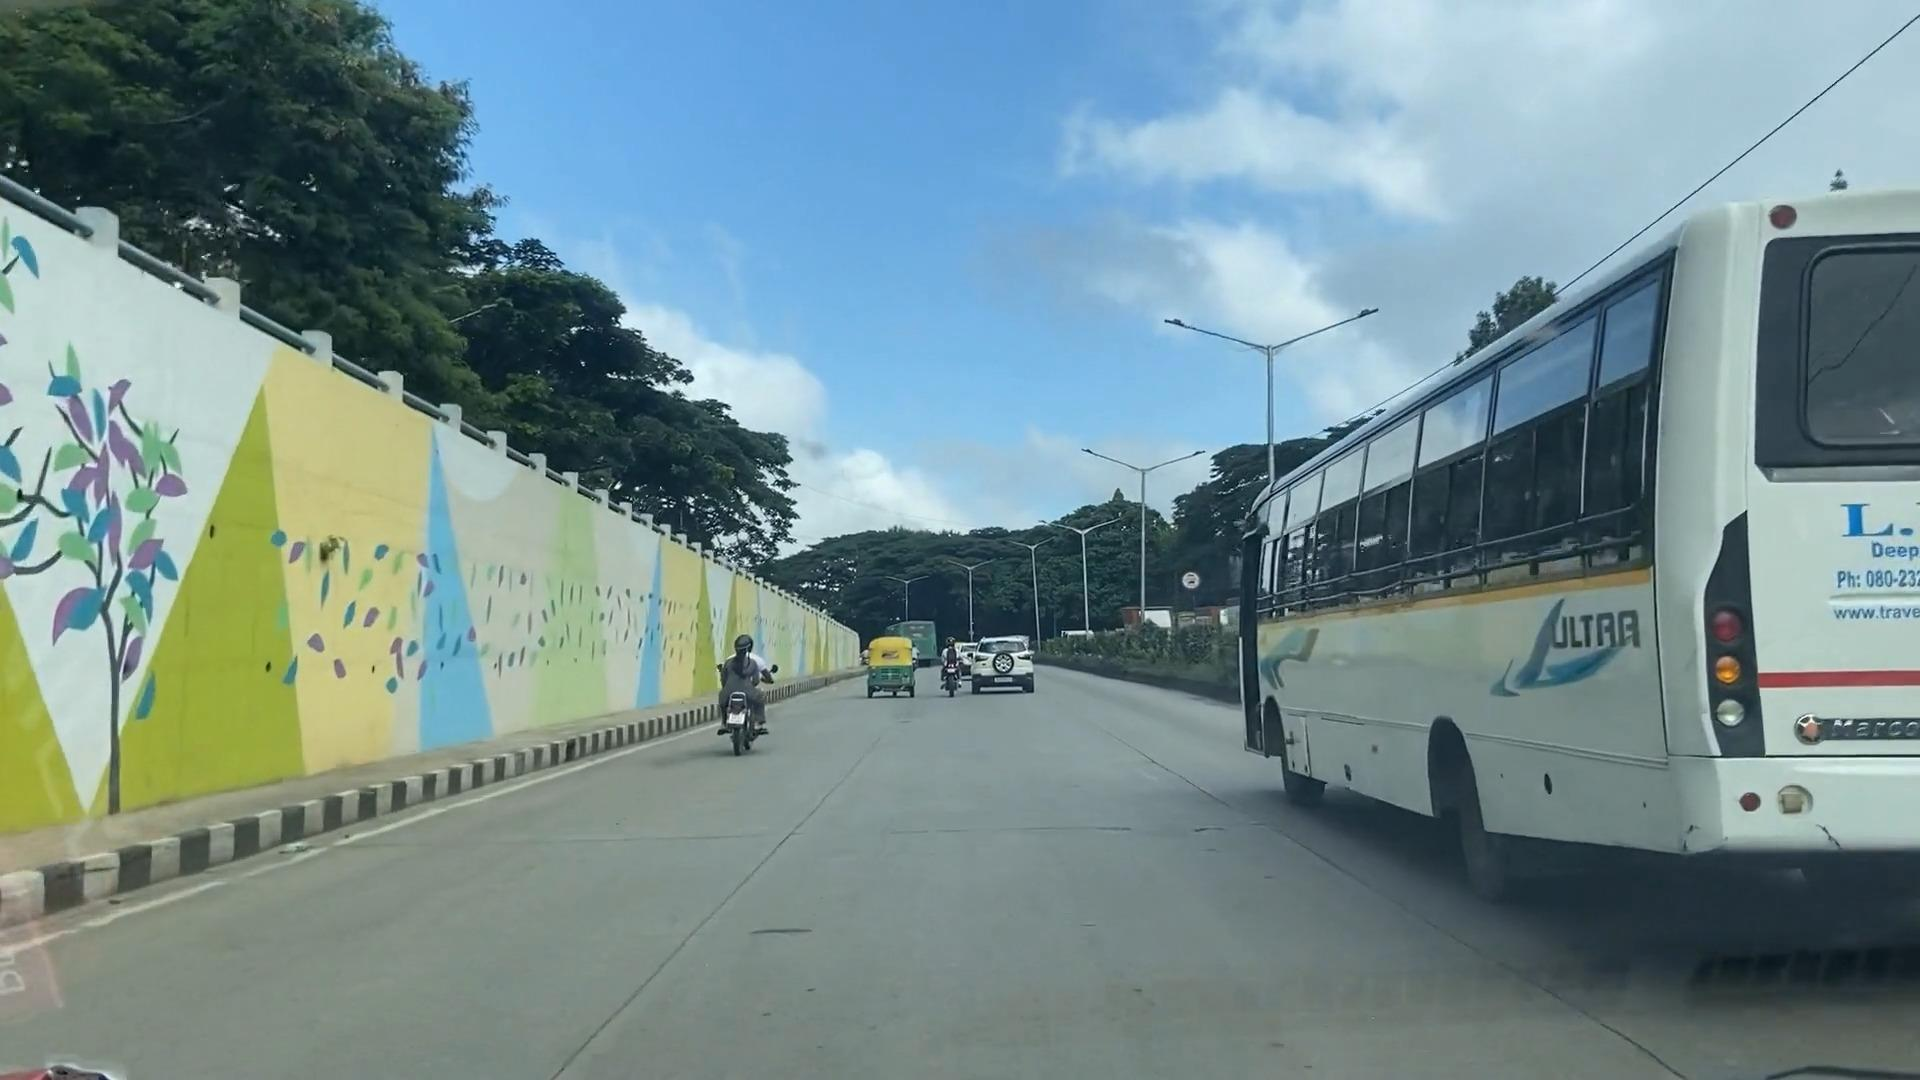HMV: (1247, 214, 1920, 914)
LMV: (719, 633, 779, 746)
